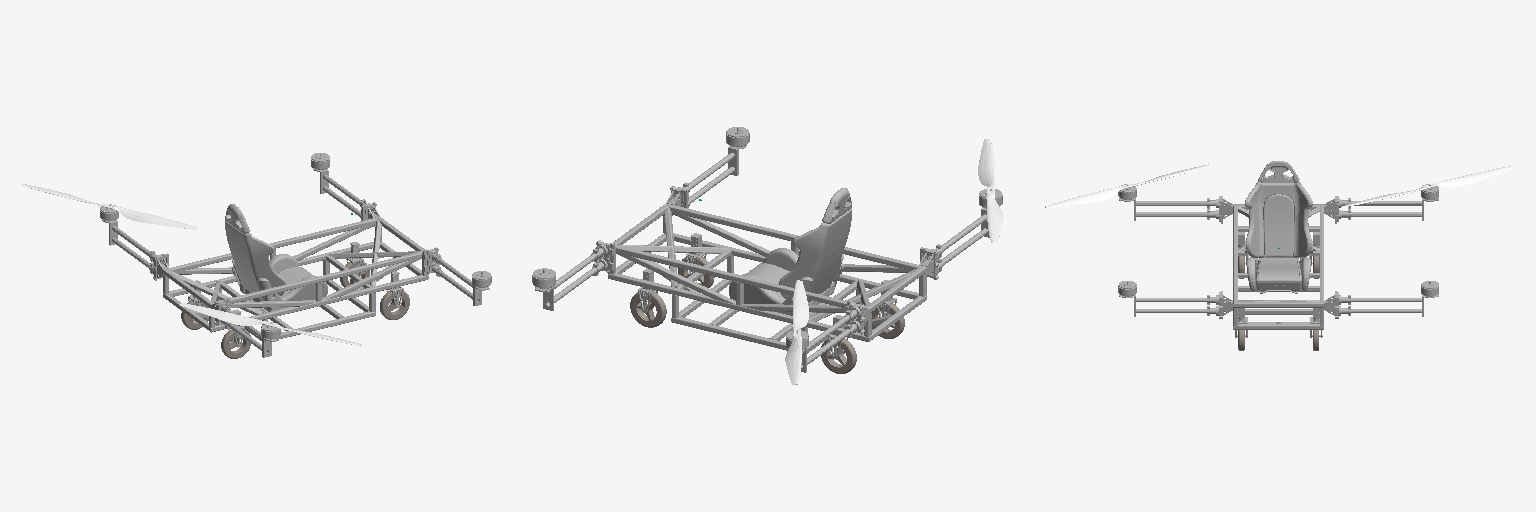
--- Facts derived from the render (not from the file) ---
Views: 3 orthographic renders of the robot side by side, from view 1: azimuth 30°, elevation 25°; view 2: azimuth 150°, elevation 25°; view 3: azimuth 270°, elevation 25°.
Model iris with 20 links and 19 joints (8 revolute, 8 continuous, 3 fixed), rooted at base_link, posed every joint at zero.
Visible links, largest first — view 1: base_link, FR_arm_link, RL_arm_link, FL_arm_link, RR_prop_link, RR_arm_link, RL_prop_link, FR_wheel_link; view 2: base_link, FL_arm_link, FR_arm_link, RL_arm_link, RL_prop_link, RR_prop_link, RR_arm_link, FL_wheel_link, RL_wheel_link; view 3: base_link, RR_arm_link, RL_arm_link, FR_arm_link, FL_arm_link, RL_prop_link, RR_prop_link.
Boxes of the visible links, bbox=[...] form: base_link: bbox=[154, 203, 435, 345]; FR_arm_link: bbox=[423, 248, 491, 305]; RL_arm_link: bbox=[100, 204, 168, 278]; FL_arm_link: bbox=[311, 153, 374, 220]; RR_prop_link: bbox=[180, 303, 361, 345]; RR_arm_link: bbox=[216, 300, 280, 357]; RL_prop_link: bbox=[21, 184, 197, 229]; FR_wheel_link: bbox=[380, 290, 409, 319]; base_link: bbox=[599, 187, 937, 358]; FL_arm_link: bbox=[532, 241, 614, 310]; FR_arm_link: bbox=[672, 127, 749, 208]; RL_arm_link: bbox=[786, 303, 862, 372]; RL_prop_link: bbox=[785, 280, 808, 384]; RR_prop_link: bbox=[978, 139, 1003, 242]; RR_arm_link: bbox=[920, 189, 1002, 277]; FL_wheel_link: bbox=[630, 292, 666, 327]; RL_wheel_link: bbox=[821, 338, 856, 373]; base_link: bbox=[1221, 161, 1336, 336]; RR_arm_link: bbox=[1118, 184, 1222, 221]; RL_arm_link: bbox=[1335, 184, 1438, 221]; FR_arm_link: bbox=[1118, 281, 1220, 318]; FL_arm_link: bbox=[1337, 281, 1438, 318]; RL_prop_link: bbox=[1345, 166, 1514, 206]; RR_prop_link: bbox=[1045, 164, 1210, 208].
Size in the robot's own frame: 2.39 by 3.88 by 1.14 metres.
Meshes: 19 distinct files referenced, 15 mesh visuals loaded (15 binary STL); not drawn: 4 (reference not matched to a file when rendering).

The robot description file, URDF, robot "iris":
<?xml version="1.0" encoding="utf-8"?>
<!-- =================================================================================== -->
<!-- |    This document was autogenerated by xacro from flying_car.urdf.xacro          | -->
<!-- |    EDITING THIS FILE BY HAND IS NOT RECOMMENDED                                 | -->
<!-- =================================================================================== -->
<!-- This URDF was automatically created by SolidWorks to URDF Exporter! Originally created by Stephen Brawner ([email redacted]) 
     Commit Version: 1.6.0-1-g15f4949  Build Version: 1.6.7594.29634
     For more information, please see http://wiki.ros.org/sw_urdf_exporter -->
<!--robot name="flying_car_urdf" xmlns:xacro="http://ros.org/wiki/xacro"-->
<robot name="iris">
  <gazebo>
    <plugin filename="libgazebo_ros_control.so" name="gazebo_ros_control">
      <!--robotNamespace>/MYROBOT</robotNamespace-->
      <robotSimType>gazebo_ros_control/DefaultRobotHWSim</robotSimType>
    </plugin>
  </gazebo>
  <transmission name="tran1">
    <type>transmission_interface/SimpleTransmission</type>
    <joint name="FL_steer_joint">
      <hardwareInterface>hardware_interface/EffortJointInterface</hardwareInterface>
    </joint>
    <actuator name="motor1">
      <mechanicalReduction>1</mechanicalReduction>
    </actuator>
  </transmission>
  <transmission name="tran2">
    <type>transmission_interface/SimpleTransmission</type>
    <joint name="FR_steer_joint">
      <hardwareInterface>hardware_interface/EffortJointInterface</hardwareInterface>
    </joint>
    <actuator name="motor2">
      <mechanicalReduction>1</mechanicalReduction>
    </actuator>
  </transmission>
  <transmission name="tran3">
    <type>transmission_interface/SimpleTransmission</type>
    <joint name="FL_arm_joint">
      <hardwareInterface>hardware_interface/EffortJointInterface</hardwareInterface>
    </joint>
    <actuator name="motor3">
      <mechanicalReduction>1</mechanicalReduction>
    </actuator>
  </transmission>
  <transmission name="tran4">
    <type>transmission_interface/SimpleTransmission</type>
    <joint name="FR_arm_joint">
      <hardwareInterface>hardware_interface/EffortJointInterface</hardwareInterface>
    </joint>
    <actuator name="motor4">
      <mechanicalReduction>1</mechanicalReduction>
    </actuator>
  </transmission>
  <transmission name="tran5">
    <type>transmission_interface/SimpleTransmission</type>
    <joint name="RL_arm_joint">
      <hardwareInterface>hardware_interface/EffortJointInterface</hardwareInterface>
    </joint>
    <actuator name="motor5">
      <mechanicalReduction>1</mechanicalReduction>
    </actuator>
  </transmission>
  <transmission name="tran6">
    <type>transmission_interface/SimpleTransmission</type>
    <joint name="RR_arm_joint">
      <hardwareInterface>hardware_interface/EffortJointInterface</hardwareInterface>
    </joint>
    <actuator name="motor6">
      <mechanicalReduction>1</mechanicalReduction>
    </actuator>
  </transmission>
  <transmission name="tranFL_prop">
    <type>transmission_interface/SimpleTransmission</type>
    <joint name="FL_prop_joint">
      <hardwareInterface>hardware_interface/EffortJointInterface</hardwareInterface>
    </joint>
    <actuator name="motorFL_prop">
      <mechanicalReduction>1</mechanicalReduction>
    </actuator>
  </transmission>
  <transmission name="tranFR_prop">
    <type>transmission_interface/SimpleTransmission</type>
    <joint name="FR_prop_joint">
      <hardwareInterface>hardware_interface/EffortJointInterface</hardwareInterface>
    </joint>
    <actuator name="motorFR_prop">
      <mechanicalReduction>1</mechanicalReduction>
    </actuator>
  </transmission>
  <transmission name="tranRL_prop">
    <type>transmission_interface/SimpleTransmission</type>
    <joint name="RL_prop_joint">
      <hardwareInterface>hardware_interface/EffortJointInterface</hardwareInterface>
    </joint>
    <actuator name="motorRL_prop">
      <mechanicalReduction>1</mechanicalReduction>
    </actuator>
  </transmission>
  <transmission name="tranRR_prop">
    <type>transmission_interface/SimpleTransmission</type>
    <joint name="RR_prop_joint">
      <hardwareInterface>hardware_interface/EffortJointInterface</hardwareInterface>
    </joint>
    <actuator name="motorRR_prop">
      <mechanicalReduction>1</mechanicalReduction>
    </actuator>
  </transmission>
  <transmission name="tranFL_wheel">
    <type>transmission_interface/SimpleTransmission</type>
    <joint name="FL_wheel_joint">
      <hardwareInterface>hardware_interface/EffortJointInterface</hardwareInterface>
    </joint>
    <actuator name="FL_wheel">
      <mechanicalReduction>1</mechanicalReduction>
    </actuator>
  </transmission>
  <transmission name="tranFR_wheel">
    <type>transmission_interface/SimpleTransmission</type>
    <joint name="FR_wheel_joint">
      <hardwareInterface>hardware_interface/EffortJointInterface</hardwareInterface>
    </joint>
    <actuator name="FR_wheel">
      <mechanicalReduction>1</mechanicalReduction>
    </actuator>
  </transmission>
  <transmission name="tranRL_wheel">
    <type>transmission_interface/SimpleTransmission</type>
    <joint name="RL_wheel_joint">
      <hardwareInterface>hardware_interface/EffortJointInterface</hardwareInterface>
    </joint>
    <actuator name="RL_wheel">
      <mechanicalReduction>1</mechanicalReduction>
    </actuator>
  </transmission>
  <transmission name="tranRR_wheel">
    <type>transmission_interface/SimpleTransmission</type>
    <joint name="RR_wheel_joint">
      <hardwareInterface>hardware_interface/EffortJointInterface</hardwareInterface>
    </joint>
    <actuator name="RR_wheel">
      <mechanicalReduction>1</mechanicalReduction>
    </actuator>
  </transmission>
  <joint name="velodyne2_base_mount_joint" type="fixed">
    <origin rpy="0 0 0" xyz="0.5 0 0.5"/>
    <parent link="base_link"/>
    <child link="velodyne2_base_link"/>
  </joint>
  <link name="velodyne2_base_link">
    <inertial>
      <mass value="1.0"/>
      <origin xyz="0 0 0.07212"/>
      <inertia ixx="0.002188947025" ixy="0" ixz="0" iyy="0.002188947025" iyz="0" izz="0.00091036445"/>
    </inertial>
    <visual>
      <geometry>
        <mesh filename="package://velodyne_description/meshes/HDL32E_base.dae"/>
      </geometry>
    </visual>
    <collision>
      <origin rpy="0 0 0" xyz="0 0 0.07212"/>
      <geometry>
        <cylinder length="0.14424" radius="0.04267"/>
      </geometry>
    </collision>
  </link>
  <joint name="velodyne2_base_scan_joint" type="fixed">
    <origin rpy="0 0 0" xyz="0 0 0.09081"/>
    <parent link="velodyne2_base_link"/>
    <child link="velodyne2"/>
  </joint>
  <link name="velodyne2">
    <inertial>
      <mass value="0.01"/>
      <origin xyz="0 0 0"/>
      <inertia ixx="1e-7" ixy="0" ixz="0" iyy="1e-7" iyz="0" izz="1e-7"/>
    </inertial>
    <visual>
      <origin rpy="0 0 0" xyz="0 0 -0.09081"/>
      <geometry>
        <mesh filename="package://velodyne_description/meshes/HDL32E_scan.dae"/>
      </geometry>
    </visual>
  </link>
  <!-- Gazebo requires the velodyne_gazebo_plugins package -->
  <gazebo reference="velodyne2">
    <sensor name="velodyne2-HDL32E" type="ray">
      <pose>0 0 0 0 0 0</pose>
      <visualize>false</visualize>
      <update_rate>10</update_rate>
      <ray>
        <scan>
          <horizontal>
            <samples>220</samples>
            <resolution>1</resolution>
            <min_angle>-3.14159265359</min_angle>
            <max_angle>3.14159265359</max_angle>
          </horizontal>
          <vertical>
            <samples>32</samples>
            <resolution>1</resolution>
            <min_angle>-0.535292481587</min_angle>
            <max_angle> 0.186226631188</max_angle>
          </vertical>
        </scan>
        <range>
          <min>0.3</min>
          <max>131.0</max>
          <resolution>0.001</resolution>
        </range>
        <noise>
          <type>gaussian</type>
          <mean>0.0</mean>
          <stddev>0.0</stddev>
        </noise>
      </ray>
      <plugin filename="libgazebo_ros_velodyne_laser.so" name="gazebo_ros_laser_controller">
        <topicName>/velodyne_points2</topicName>
        <frameName>velodyne2</frameName>
        <min_range>0.9</min_range>
        <max_range>130.0</max_range>
        <gaussianNoise>0.008</gaussianNoise>
      </plugin>
    </sensor>
  </gazebo>
  <plugin filename="libgazebo_motor_model.so" name="front_right_motor_model">
    <robotNamespace/>
    <jointName>FR_prop_joint</jointName>
    <linkName>FR_prop_link</linkName>
    <turningDirection>ccw</turningDirection>
    <timeConstantUp>0.0125</timeConstantUp>
    <timeConstantDown>0.025</timeConstantDown>
    <maxRotVelocity>1100</maxRotVelocity>
    <motorConstant>5.84e-06</motorConstant>
    <momentConstant>0.06</momentConstant>
    <commandSubTopic>/gazebo/command/motor_speed</commandSubTopic>
    <motorNumber>0</motorNumber>
    <rotorDragCoefficient>0.000175</rotorDragCoefficient>
    <rollingMomentCoefficient>1e-06</rollingMomentCoefficient>
    <motorSpeedPubTopic>/motor_speed/0</motorSpeedPubTopic>
    <rotorVelocitySlowdownSim>10</rotorVelocitySlowdownSim>
  </plugin>
  <plugin filename="libgazebo_motor_model.so" name="back_left_motor_model">
    <robotNamespace/>
    <jointName>RL_prop_joint</jointName>
    <linkName>RL_prop_link</linkName>
    <turningDirection>ccw</turningDirection>
    <timeConstantUp>0.0125</timeConstantUp>
    <timeConstantDown>0.025</timeConstantDown>
    <maxRotVelocity>1100</maxRotVelocity>
    <motorConstant>5.84e-06</motorConstant>
    <momentConstant>0.06</momentConstant>
    <commandSubTopic>/gazebo/command/motor_speed</commandSubTopic>
    <motorNumber>1</motorNumber>
    <rotorDragCoefficient>0.000175</rotorDragCoefficient>
    <rollingMomentCoefficient>1e-06</rollingMomentCoefficient>
    <motorSpeedPubTopic>/motor_speed/1</motorSpeedPubTopic>
    <rotorVelocitySlowdownSim>10</rotorVelocitySlowdownSim>
  </plugin>
  <plugin filename="libgazebo_motor_model.so" name="front_left_motor_model">
    <robotNamespace/>
    <jointName>FR_prop_joint</jointName>
    <linkName>FR_prop_link</linkName>
    <turningDirection>cw</turningDirection>
    <timeConstantUp>0.0125</timeConstantUp>
    <timeConstantDown>0.025</timeConstantDown>
    <maxRotVelocity>1100</maxRotVelocity>
    <motorConstant>5.84e-06</motorConstant>
    <momentConstant>0.06</momentConstant>
    <commandSubTopic>/gazebo/command/motor_speed</commandSubTopic>
    <motorNumber>2</motorNumber>
    <rotorDragCoefficient>0.000175</rotorDragCoefficient>
    <rollingMomentCoefficient>1e-06</rollingMomentCoefficient>
    <motorSpeedPubTopic>/motor_speed/2</motorSpeedPubTopic>
    <rotorVelocitySlowdownSim>10</rotorVelocitySlowdownSim>
  </plugin>
  <plugin filename="libgazebo_motor_model.so" name="back_right_motor_model">
    <robotNamespace/>
    <jointName>RR_prop_joint</jointName>
    <linkName>RR_prop_link</linkName>
    <jointName>rotor_3_joint</jointName>
    <linkName>rotor_3</linkName>
    <turningDirection>cw</turningDirection>
    <timeConstantUp>0.0125</timeConstantUp>
    <timeConstantDown>0.025</timeConstantDown>
    <maxRotVelocity>1100</maxRotVelocity>
    <motorConstant>5.84e-06</motorConstant>
    <momentConstant>0.06</momentConstant>
    <commandSubTopic>/gazebo/command/motor_speed</commandSubTopic>
    <motorNumber>3</motorNumber>
    <rotorDragCoefficient>0.000175</rotorDragCoefficient>
    <rollingMomentCoefficient>1e-06</rollingMomentCoefficient>
    <motorSpeedPubTopic>/motor_speed/3</motorSpeedPubTopic>
    <rotorVelocitySlowdownSim>10</rotorVelocitySlowdownSim>
  </plugin>
  <link name="gps0_link">
    <inertial>
      <origin rpy="0 0 0" xyz="0 0 0"/>
      <mass value="0.01"/>
      <inertia ixx="2.1733e-06" ixy="0" ixz="0" iyy="2.1733e-06" iyz="0" izz="1.8e-07"/>
    </inertial>
    <visual name="visual">
      <geometry>
        <cylinder length="0.002" radius="0.01"/>
      </geometry>
    </visual>
    <sensor name="gps" type="gps">
      <pose>0 0 0 0 0 0</pose>
      <plugin filename="libgazebo_gps_plugin.so" name="gps_plugin">
        <robotNamespace/>
        <gpsNoise>1</gpsNoise>
        <gpsXYRandomWalk>2.0</gpsXYRandomWalk>
        <gpsZRandomWalk>4.0</gpsZRandomWalk>
        <gpsXYNoiseDensity>0.0002</gpsXYNoiseDensity>
        <gpsZNoiseDensity>0.0004</gpsZNoiseDensity>
        <gpsVXYNoiseDensity>0.2</gpsVXYNoiseDensity>
        <gpsVZNoiseDensity>0.4</gpsVZNoiseDensity>
      </plugin>
    </sensor>
  </link>
  <joint name="gps0_joint" type="fixed">
    <parent link="base_link"/>
    <child link="gps0_link"/>
    <origin rpy="0 0 0" xyz="0.5 0 0.7"/>
    <axis xyz="0 0 0"/>
  </joint>
  <plugin filename="libgazebo_groundtruth_plugin.so" name="groundtruth_plugin">
    <robotNamespace/>
  </plugin>
  <plugin filename="libgazebo_magnetometer_plugin.so" name="magnetometer_plugin">
    <robotNamespace/>
    <pubRate>100</pubRate>
    <noiseDensity>0.0004</noiseDensity>
    <randomWalk>6.4e-06</randomWalk>
    <biasCorrelationTime>600</biasCorrelationTime>
    <magTopic>/mag</magTopic>
  </plugin>
  <plugin filename="libgazebo_barometer_plugin.so" name="barometer_plugin">
    <robotNamespace/>
    <pubRate>50</pubRate>
    <baroTopic>/baro</baroTopic>
    <baroDriftPaPerSec>0</baroDriftPaPerSec>
  </plugin>
  <plugin filename="libgazebo_mavlink_interface.so" name="mavlink_interface">
    <robotNamespace/>
    <imuSubTopic>/imu</imuSubTopic>
    <magSubTopic>/mag</magSubTopic>
    <baroSubTopic>/baro</baroSubTopic>
    <mavlink_addr>INADDR_ANY</mavlink_addr>
    <mavlink_tcp_port>4560</mavlink_tcp_port>
    <mavlink_udp_port>14560</mavlink_udp_port>
    <serialEnabled>0</serialEnabled>
    <serialDevice>/dev/ttyACM0</serialDevice>
    <baudRate>921600</baudRate>
    <qgc_addr>INADDR_ANY</qgc_addr>
    <qgc_udp_port>14550</qgc_udp_port>
    <sdk_addr>INADDR_ANY</sdk_addr>
    <sdk_udp_port>14540</sdk_udp_port>
    <hil_mode>0</hil_mode>
    <hil_state_level>0</hil_state_level>
    <send_vision_estimation>0</send_vision_estimation>
    <send_odometry>1</send_odometry>
    <enable_lockstep>1</enable_lockstep>
    <use_tcp>1</use_tcp>
    <motorSpeedCommandPubTopic>/gazebo/command/motor_speed</motorSpeedCommandPubTopic>
    <control_channels>
      <channel name="rotor1">
        <input_index>0</input_index>
        <input_offset>0</input_offset>
        <input_scaling>1000</input_scaling>
        <zero_position_disarmed>0</zero_position_disarmed>
        <zero_position_armed>100</zero_position_armed>
        <joint_control_type>velocity</joint_control_type>
      </channel>
      <channel name="rotor2">
        <input_index>1</input_index>
        <input_offset>0</input_offset>
        <input_scaling>1000</input_scaling>
        <zero_position_disarmed>0</zero_position_disarmed>
        <zero_position_armed>100</zero_position_armed>
        <joint_control_type>velocity</joint_control_type>
      </channel>
      <channel name="rotor3">
        <input_index>2</input_index>
        <input_offset>0</input_offset>
        <input_scaling>1000</input_scaling>
        <zero_position_disarmed>0</zero_position_disarmed>
        <zero_position_armed>100</zero_position_armed>
        <joint_control_type>velocity</joint_control_type>
      </channel>
      <channel name="rotor4">
        <input_index>3</input_index>
        <input_offset>0</input_offset>
        <input_scaling>1000</input_scaling>
        <zero_position_disarmed>0</zero_position_disarmed>
        <zero_position_armed>100</zero_position_armed>
        <joint_control_type>velocity</joint_control_type>
      </channel>
      <channel name="rotor5">
        <input_index>4</input_index>
        <input_offset>1</input_offset>
        <input_scaling>324.6</input_scaling>
        <zero_position_disarmed>0</zero_position_disarmed>
        <zero_position_armed>0</zero_position_armed>
        <joint_control_type>velocity</joint_control_type>
        <joint_control_pid>
          <p>0.1</p>
          <i>0</i>
          <d>0</d>
          <iMax>0.0</iMax>
          <iMin>0.0</iMin>
          <cmdMax>2</cmdMax>
          <cmdMin>-2</cmdMin>
        </joint_control_pid>
        <joint_name>zephyr_delta_wing::propeller_joint</joint_name>
      </channel>
      <channel name="rotor6">
        <input_index>5</input_index>
        <input_offset>0</input_offset>
        <input_scaling>0.524</input_scaling>
        <zero_position_disarmed>0</zero_position_disarmed>
        <zero_position_armed>0</zero_position_armed>
        <joint_control_type>position</joint_control_type>
        <joint_name>zephyr_delta_wing::flap_left_joint</joint_name>
        <joint_control_pid>
          <p>10.0</p>
          <i>0</i>
          <d>0</d>
          <iMax>0</iMax>
          <iMin>0</iMin>
          <cmdMax>20</cmdMax>
          <cmdMin>-20</cmdMin>
        </joint_control_pid>
      </channel>
      <channel name="rotor7">
        <input_index>6</input_index>
        <input_offset>0</input_offset>
        <input_scaling>0.524</input_scaling>
        <zero_position_disarmed>0</zero_position_disarmed>
        <zero_position_armed>0</zero_position_armed>
        <joint_control_type>position</joint_control_type>
        <joint_name>zephyr_delta_wing::flap_right_joint</joint_name>
        <joint_control_pid>
          <p>10.0</p>
          <i>0</i>
          <d>0</d>
          <iMax>0</iMax>
          <iMin>0</iMin>
          <cmdMax>20</cmdMax>
          <cmdMin>-20</cmdMin>
        </joint_control_pid>
      </channel>
      <channel name="rotor8">
        <input_index>7</input_index>
        <input_offset>0</input_offset>
        <input_scaling>0.524</input_scaling>
        <zero_position_disarmed>0</zero_position_disarmed>
        <zero_position_armed>0</zero_position_armed>
        <joint_control_type>position</joint_control_type>
      </channel>
    </control_channels>
  </plugin>
  <static>0</static>
  <plugin filename="libgazebo_imu_plugin.so" name="rotors_gazebo_imu_plugin">
    <robotNamespace/>
    <linkName>/imu_link</linkName>
    <imuTopic>/imu</imuTopic>
    <gyroscopeNoiseDensity>0.00018665</gyroscopeNoiseDensity>
    <gyroscopeRandomWalk>3.8785e-05</gyroscopeRandomWalk>
    <gyroscopeBiasCorrelationTime>1000.0</gyroscopeBiasCorrelationTime>
    <gyroscopeTurnOnBiasSigma>0.0087</gyroscopeTurnOnBiasSigma>
    <accelerometerNoiseDensity>0.00186</accelerometerNoiseDensity>
    <accelerometerRandomWalk>0.006</accelerometerRandomWalk>
    <accelerometerBiasCorrelationTime>300.0</accelerometerBiasCorrelationTime>
    <accelerometerTurnOnBiasSigma>0.196</accelerometerTurnOnBiasSigma>
  </plugin>
  <link name="base_link">
    <inertial>
      <origin rpy="0 0 0" xyz="-0.146429923355639 4.6141216103468E-06 0.306922339438389"/>
      <mass value="72.4585171289715"/>
      <inertia ixx="1.61550819650369" ixy="-3.16188395392895E-05" ixz="0.0620334640597006" iyy="2.74355272384867" iyz="-0.00648256065496445" izz="3.23450546919946"/>
    </inertial>
    <visual>
      <origin rpy="0 0 0" xyz="0 0 0"/>
      <geometry>
        <mesh filename="package://flying_car_urdf/meshes/base_link.STL"/>
      </geometry>
      <material name="">
        <color rgba="0.752941176470588 0.752941176470588 0.752941176470588 1"/>
      </material>
    </visual>
    <collision>
      <origin rpy="0 0 0" xyz="0 0 0"/>
      <geometry>
        <mesh filename="package://flying_car_urdf/meshes/base_link.STL"/>
      </geometry>
    </collision>
  </link>
  <link name="FL_arm_link">
    <inertial>
      <origin rpy="0 0 0" xyz="0.405693257704713 0.0031481565089142 0.107253489414463"/>
      <mass value="3.89447230721183"/>
      <inertia ixx="0.00764950499387066" ixy="7.20024305750638E-05" ixz="-2.12112386887157E-07" iyy="0.0330920443295484" iyz="-1.37630637299853E-08" izz="0.0321291032185021"/>
    </inertial>
    <visual>
      <origin rpy="0 0 0" xyz="0 0 0"/>
      <geometry>
        <mesh filename="package://flying_car_urdf/meshes/FL_arm_link.STL"/>
      </geometry>
      <material name="">
        <color rgba="0.752941176470588 0.752941176470588 0.752941176470588 1"/>
      </material>
    </visual>
    <collision>
      <origin rpy="0 0 0" xyz="0 0 0"/>
      <geometry>
        <mesh filename="package://flying_car_urdf/meshes/FL_arm_link.STL"/>
      </geometry>
    </collision>
  </link>
  <joint name="FL_arm_joint" type="revolute">
    <origin rpy="0 0 1.5707963267949" xyz="0.940000000000001 0.48 0.339999999999999"/>
    <parent link="base_link"/>
    <child link="FL_arm_link"/>
    <axis xyz="0 0 -1"/>
    <limit effort="100" lower="-1.57" upper="0" velocity="1"/>
  </joint>
  <link name="FL_prop_link">
    <inertial>
      <origin rpy="0 0 0" xyz="7.9164959032596E-09 -0.00186087352819841 -1.45022256425875E-08"/>
      <mass value="1.00633319200359"/>
      <inertia ixx="0.0495943276929438" ixy="5.12014239400693E-11" ixz="0.0777130986532108" iyy="0.173195440429717" iyz="1.30510821163399E-10" izz="0.123701063238782"/>
    </inertial>
    <visual>
      <origin rpy="0 0 0" xyz="0 0 0"/>
      <geometry>
        <mesh filename="package://flying_car_urdf/meshes/FL_prop_link.STL"/>
      </geometry>
      <material name="">
        <color rgba="1 1 1 1"/>
      </material>
    </visual>
    <collision>
      <origin rpy="0 0 0" xyz="0 0 0"/>
      <geometry>
        <mesh filename="package://flying_car_urdf/meshes/FL_prop_link.STL"/>
      </geometry>
    </collision>
  </link>
  <joint name="FL_prop_joint" type="continuous">
    <origin rpy="1.5708 0 0" xyz="0.76505 0 0.254"/>
    <parent link="FL_arm_link"/>
    <child link="FL_prop_link"/>
    <axis xyz="0 1 0"/>
  </joint>
  <link name="FR_arm_link">
    <inertial>
      <origin rpy="0 0 0" xyz="0.405693257704711 -0.00725348941446158 -0.00314828941180689"/>
      <mass value="3.89447230721182"/>
      <inertia ixx="0.00764950499387065" ixy="2.12112386890709E-07" ixz="-7.20021868805378E-05" iyy="0.0321291032185021" iyz="1.37630637386484E-08" izz="0.0330920443295484"/>
    </inertial>
    <visual>
      <origin rpy="0 0 0" xyz="0 0 0"/>
      <geometry>
        <mesh filename="package://flying_car_urdf/meshes/FR_arm_link.STL"/>
      </geometry>
      <material name="">
        <color rgba="0.752941176470588 0.752941176470588 0.752941176470588 1"/>
      </material>
    </visual>
    <collision>
      <origin rpy="0 0 0" xyz="0 0 0"/>
      <geometry>
        <mesh filename="package://flying_car_urdf/meshes/FR_arm_link.STL"/>
      </geometry>
    </collision>
  </link>
  <joint name="FR_arm_joint" type="revolute">
    <origin rpy="-1.5708 0 -1.5708" xyz="0.94 -0.48 0.44"/>
    <parent link="base_link"/>
    <child link="FR_arm_link"/>
    <axis xyz="0 -1 0"/>
    <limit effort="100" lower="-1.57" upper="0" velocity="1"/>
  </joint>
  <link name="FR_prop_link">
    <inertial>
      <origin rpy="0 0 0" xyz="-1.95864401566527E-07 -0.00186086168514299 1.01704304089623E-07"/>
      <mass value="1.00636259561687"/>
      <inertia ixx="0.0395701881672427" ixy="4.88903964209589E-10" ixz="0.0720874245458485" iyy="0.173211048789436" iyz="-1.15461644657509E-10" izz="0.133740813319805"/>
    </inertial>
    <visual>
      <origin rpy="0 0 0" xyz="0 0 0"/>
      <geometry>
        <mesh filename="package://flying_car_urdf/meshes/FR_prop_link.STL"/>
      </geometry>
      <material name="">
        <color rgba="1 1 1 1"/>
      </material>
    </visual>
    <collision>
      <origin rpy="0 0 0" xyz="0 0 0"/>
      <geometry>
        <mesh filename="package://flying_car_urdf/meshes/FR_prop_link.STL"/>
      </geometry>
    </collision>
  </link>
  <joint name="FR_prop_joint" type="continuous">
    <origin rpy="0 0 3.14159265358979" xyz="0.765051653365603 -0.154000000000011 0"/>
    <parent link="FR_arm_link"/>
    <child link="FR_prop_link"/>
    <axis xyz="0 1 0"/>
  </joint>
  <link name="RR_arm_link">
    <inertial>
      <origin rpy="0 0 0" xyz="0.405693257704711 0.00314815650891492 0.107253489414463"/>
      <mass value="3.89447230721182"/>
      <inertia ixx="0.00764950499387065" ixy="7.20024305750679E-05" ixz="-2.1211238688973E-07" iyy="0.0330920443295484" iyz="-1.37630637350729E-08" izz="0.0321291032185021"/>
    </inertial>
    <visual>
      <origin rpy="0 0 0" xyz="0 0 0"/>
      <geometry>
        <mesh filename="package://flying_car_urdf/meshes/RR_arm_link.STL"/>
      </geometry>
      <material name="">
        <color rgba="0.752941176470588 0.752941176470588 0.752941176470588 1"/>
      </material>
    </visual>
    <collision>
      <origin rpy="0 0 0" xyz="0 0 0"/>
      <geometry>
        <mesh filename="package://flying_car_urdf/meshes/RR_arm_link.STL"/>
      </geometry>
    </collision>
  </link>
  <joint name="RR_arm_joint" type="revolute">
    <origin rpy="0 0 -1.5708" xyz="-0.94 -0.48 0.34"/>
    <parent link="base_link"/>
    <child link="RR_arm_link"/>
    <axis xyz="0 0 -1"/>
    <limit effort="100" lower="-1.57" upper="0" velocity="1"/>
  </joint>
  <link name="RR_prop_link">
    <inertial>
      <origin rpy="0 0 0" xyz="2.17005934749492E-09 -0.00186087212280439 -8.24081997086168E-09"/>
      <mass value="1.00633311458426"/>
      <inertia ixx="0.0495943271195099" ixy="-5.63368805909919E-11" ixz="0.0777130981431345" iyy="0.173195439404083" iyz="2.46588541774348E-10" izz="0.123701062736267"/>
    </inertial>
    <visual>
      <origin rpy="0 0 0" xyz="0 0 0"/>
      <geometry>
        <mesh filename="package://flying_car_urdf/meshes/RR_prop_link.STL"/>
      </geometry>
      <material name="">
        <color rgba="1 1 1 1"/>
      </material>
    </visual>
    <collision>
      <origin rpy="0 0 0" xyz="0 0 0"/>
      <geometry>
        <mesh filename="package://flying_car_urdf/meshes/RR_prop_link.STL"/>
      </geometry>
    </collision>
  </link>
  <joint name="RR_prop_joint" type="continuous">
    <origin rpy="1.5707963267949 0 3.14159265358979" xyz="0.765051653365595 0 0.254000000000003"/>
    <parent link="RR_arm_link"/>
    <child link="RR_prop_link"/>
    <axis xyz="0 1 0"/>
  </joint>
  <link name="RL_arm_link">
    <inertial>
      <origin rpy="0 0 0" xyz="0.40569325770471 0.00725348941446136 0.00314828941180623"/>
      <mass value="3.89447230721181"/>
      <inertia ixx="0.00764950499387061" ixy="-2.12112386866559E-07" ixz="7.20021868805221E-05" iyy="0.032129103218502" iyz="1.37630637374215E-08" izz="0.0330920443295484"/>
    </inertial>
    <visual>
      <origin rpy="0 0 0" xyz="0 0 0"/>
      <geometry>
        <mesh filename="package://flying_car_urdf/meshes/RL_arm_link.STL"/>
      </geometry>
      <material name="">
        <color rgba="0.752941176470588 0.752941176470588 0.752941176470588 1"/>
      </material>
    </visual>
    <collision>
      <origin rpy="0 0 0" xyz="0 0 0"/>
      <geometry>
        <mesh filename="package://flying_car_urdf/meshes/RL_arm_link.STL"/>
      </geometry>
    </collision>
  </link>
  <joint name="RL_arm_joint" type="revolute">
    <origin rpy="1.5708 0 1.5708" xyz="-0.94 0.48 0.44"/>
    <parent link="base_link"/>
    <child link="RL_arm_link"/>
    <axis xyz="0 1 0"/>
    <limit effort="100" lower="-1.57" upper="0" velocity="1"/>
  </joint>
  <link name="RL_prop_link">
    <inertial>
      <origin rpy="0 0 0" xyz="-1.90695036650368E-07 -0.00186086500205929 9.97787533985051E-08"/>
      <mass value="1.00636280361878"/>
      <inertia ixx="0.0395701883931864" ixy="5.37299574939007E-10" ixz="0.0720874251910353" iyy="0.173211051383078" iyz="-1.36539842148325E-10" izz="0.133740815794897"/>
    </inertial>
    <visual>
      <origin rpy="0 0 0" xyz="0 0 0"/>
      <geometry>
        <mesh filename="package://flying_car_urdf/meshes/RL_prop_link.STL"/>
      </geometry>
      <material name="">
        <color rgba="1 1 1 1"/>
      </material>
    </visual>
    <collision>
      <origin rpy="0 0 0" xyz="0 0 0"/>
      <geometry>
        <mesh filename="package://flying_car_urdf/meshes/RL_prop_link.STL"/>
      </geometry>
    </collision>
  </link>
  <joint name="RL_prop_joint" type="continuous">
    <origin rpy="0 0 0" xyz="0.765051653365595 0.154000000000009 0"/>
    <parent link="RL_arm_link"/>
    <child link="RL_prop_link"/>
    <axis xyz="0 1 0"/>
  </joint>
  <link name="FR_steer_link">
    <inertial>
      <origin rpy="0 0 0" xyz="-2.22044604925031E-16 1.11022302462516E-16 -0.0452127836143312"/>
      <mass value="0.230273438117984"/>
      <inertia ixx="0.000349256798258404" ixy="1.45518192075896E-14" ixz="-7.92477996108057E-19" iyy="0.000450897154400186" iyz="1.54271030766644E-20" izz="0.000182392582849012"/>
    </inertial>
    <visual>
      <origin rpy="0 0 0" xyz="0 0 0"/>
      <geometry>
        <mesh filename="package://flying_car_urdf/meshes/FR_steer_link.STL"/>
      </geometry>
      <material name="">
        <color rgba="0.752941176470588 0.752941176470588 0.752941176470588 1"/>
      </material>
    </visual>
    <collision>
      <origin rpy="0 0 0" xyz="0 0 0"/>
      <geometry>
        <mesh filename="package://flying_car_urdf/meshes/FR_steer_link.STL"/>
      </geometry>
    </collision>
  </link>
  <joint name="FR_steer_joint" type="revolute">
    <origin rpy="0 0 0" xyz="0.707 -0.308 0.15"/>
    <parent link="base_link"/>
    <child link="FR_steer_link"/>
    <axis xyz="0 0 1"/>
    <limit effort="1" lower="-1.57" upper="1.57" velocity="1"/>
  </joint>
  <link name="FR_wheel_link">
    <inertial>
      <origin rpy="0 0 0" xyz="-1.11022302462516E-16 -1.11022302462516E-16 0"/>
      <mass value="1.84219192629543"/>
      <inertia ixx="0.0177302468286368" ixy="-4.28723099915728E-19" ixz="2.20679460797186E-18" iyy="0.00925790244280525" iyz="-3.12343399300023E-18" izz="0.00925790244280525"/>
    </inertial>
    <visual>
      <origin rpy="0 0 0" xyz="0 0 0"/>
      <geometry>
        <mesh filename="package://flying_car_urdf/meshes/FR_wheel_link.STL"/>
      </geometry>
      <material name="">
        <color rgba="0.647058823529412 0.619607843137255 0.588235294117647 1"/>
      </material>
    </visual>
    <collision>
      <origin rpy="0 0 0" xyz="0 0 0"/>
      <geometry>
        <mesh filename="package://flying_car_urdf/meshes/FR_wheel_link.STL"/>
      </geometry>
      <friction>
        <ode>
          <mu>0.68</mu>
          <mu2>0.8</mu2>
        </ode>
      </friction>
    </collision>
  </link>
  <joint name="FR_wheel_joint" type="continuous">
    <origin rpy="1.5707963267949 0 1.5707963267949" xyz="0 0 -0.145000000000282"/>
    <parent link="FR_steer_link"/>
    <child link="FR_wheel_link"/>
    <axis xyz="1 0 0"/>
  </joint>
  <link name="FL_steer_link">
    <inertial>
      <origin rpy="0 0 0" xyz="0 2.22044604925031E-16 -0.0452127836143308"/>
      <mass value="0.230273438117982"/>
      <inertia ixx="0.000349256798258392" ixy="1.45517583247674E-14" ixz="1.39565796343945E-19" iyy="0.000450897154400175" iyz="2.4253803330348E-20" izz="0.000182392582849013"/>
    </inertial>
    <visual>
      <origin rpy="0 0 0" xyz="0 0 0"/>
      <geometry>
        <mesh filename="package://flying_car_urdf/meshes/FL_steer_link.STL"/>
      </geometry>
      <material name="">
        <color rgba="0.752941176470588 0.752941176470588 0.752941176470588 1"/>
      </material>
    </visual>
    <collision>
      <origin rpy="0 0 0" xyz="0 0 0"/>
      <geometry>
        <mesh filename="package://flying_car_urdf/meshes/FL_steer_link.STL"/>
      </geometry>
    </collision>
  </link>
  <joint name="FL_steer_joint" type="revolute">
    <origin rpy="0 0 0" xyz="0.707 0.308 0.15"/>
    <parent link="base_link"/>
    <child link="FL_steer_link"/>
    <axis xyz="0 0 1"/>
    <limit effort="1" lower="-1.57" upper="1.57" velocity="1"/>
  </joint>
  <link name="FL_wheel_link">
    <inertial>
      <origin rpy="0 0 0" xyz="-2.22044604925031E-16 -1.11022302462516E-16 2.22044604925031E-16"/>
      <mass value="1.84219192629543"/>
      <inertia ixx="0.0177302468286368" ixy="5.85379655277248E-20" ixz="3.05830316111449E-18" iyy="0.00925790244280525" iyz="-3.92719505446036E-18" izz="0.00925790244280525"/>
    </inertial>
    <visual>
      <origin rpy="0 0 0" xyz="0 0 0"/>
      <geometry>
        <mesh filename="package://flying_car_urdf/meshes/FL_wheel_link.STL"/>
      </geometry>
      <material name="">
        <color rgba="0.647058823529412 0.619607843137255 0.588235294117647 1"/>
      </material>
    </visual>
    <collision>
      <origin rpy="0 0 0" xyz="0 0 0"/>
      <geometry>
        <mesh filename="package://flying_car_urdf/meshes/FL_wheel_link.STL"/>
      </geometry>
      <friction>
        <ode>
          <mu>0.68</mu>
          <mu2>0.8</mu2>
        </ode>
      </friction>
    </collision>
  </link>
  <joint name="FL_wheel_joint" type="continuous">
    <origin rpy="1.5707963267949 0 1.5707963267949" xyz="0 0 -0.144999999999987"/>
    <parent link="FL_steer_link"/>
    <child link="FL_wheel_link"/>
    <axis xyz="-1 0 0"/>
  </joint>
  <link name="RR_steer_link">
    <inertial>
      <origin rpy="0 0 0" xyz="3.88578058618805E-16 1.11022302462516E-16 -0.045212783614331"/>
      <mass value="0.230273438117983"/>
      <inertia ixx="0.000349256798258397" ixy="1.45517338150183E-14" ixz="2.46152613174949E-19" iyy="0.000450897154400179" iyz="3.50515752367294E-22" izz="0.000182392582849012"/>
    </inertial>
    <visual>
      <origin rpy="0 0 0" xyz="0 0 0"/>
      <geometry>
        <mesh filename="package://flying_car_urdf/meshes/RR_steer_link.STL"/>
      </geometry>
      <material name="">
        <color rgba="0.752941176470588 0.752941176470588 0.752941176470588 1"/>
      </material>
    </visual>
    <collision>
      <origin rpy="0 0 0" xyz="0 0 0"/>
      <geometry>
        <mesh filename="package://flying_car_urdf/meshes/RR_steer_link.STL"/>
      </geometry>
    </collision>
  </link>
  <joint name="RR_steer_joint" type="revolute">
    <origin rpy="0 0 0" xyz="-0.707 -0.308 0.15"/>
    <parent link="base_link"/>
    <child link="RR_steer_link"/>
    <axis xyz="0 0 1"/>
    <limit effort="0" lower="0" upper="0" velocity="0"/>
  </joint>
  <link name="RR_wheel_link">
    <inertial>
      <origin rpy="0 0 0" xyz="0 0 -1.11022302462516E-16"/>
      <mass value="1.84219192629543"/>
      <inertia ixx="0.0177302468286368" ixy="-1.19673225549615E-18" ixz="9.76883033040924E-19" iyy="0.00925790244280525" iyz="-2.48053598603422E-18" izz="0.00925790244280525"/>
    </inertial>
    <visual>
      <origin rpy="0 0 0" xyz="0 0 0"/>
      <geometry>
        <mesh filename="package://flying_car_urdf/meshes/RR_wheel_link.STL"/>
      </geometry>
      <material name="">
        <color rgba="0.647058823529412 0.619607843137255 0.588235294117647 1"/>
      </material>
    </visual>
    <collision>
      <origin rpy="0 0 0" xyz="0 0 0"/>
      <geometry>
        <mesh filename="package://flying_car_urdf/meshes/RR_wheel_link.STL"/>
      </geometry>
      <friction>
        <ode>
          <mu>0.68</mu>
          <mu2>0.8</mu2>
        </ode>
      </friction>
    </collision>
  </link>
  <joint name="RR_wheel_joint" type="continuous">
    <origin rpy="1.5707963267949 0 1.5707963267949" xyz="0 0 -0.145"/>
    <parent link="RR_steer_link"/>
    <child link="RR_wheel_link"/>
    <axis xyz="1 0 0"/>
  </joint>
  <link name="RL_steer_link">
    <inertial>
      <origin rpy="0 0 0" xyz="4.44089209850063E-16 -4.44089209850063E-16 -0.0452127836146745"/>
      <mass value="0.230273438117982"/>
      <inertia ixx="0.000349256798258395" ixy="1.45516390193479E-14" ixz="-2.9833008345631E-20" iyy="0.000450897154400177" iyz="3.9950109397287E-20" izz="0.000182392582849012"/>
    </inertial>
    <visual>
      <origin rpy="0 0 0" xyz="0 0 0"/>
      <geometry>
        <mesh filename="package://flying_car_urdf/meshes/RL_steer_link.STL"/>
      </geometry>
      <material name="">
        <color rgba="0.752941176470588 0.752941176470588 0.752941176470588 1"/>
      </material>
    </visual>
    <collision>
      <origin rpy="0 0 0" xyz="0 0 0"/>
      <geometry>
        <mesh filename="package://flying_car_urdf/meshes/RL_steer_link.STL"/>
      </geometry>
    </collision>
  </link>
  <joint name="RL_steer_joint" type="revolute">
    <origin rpy="0 0 0" xyz="-0.707 0.307999999999994 0.150000000000006"/>
    <parent link="base_link"/>
    <child link="RL_steer_link"/>
    <axis xyz="0 0 1"/>
    <limit effort="0" lower="0" upper="0" velocity="0"/>
  </joint>
  <link name="RL_wheel_link">
    <inertial>
      <origin rpy="0 0 0" xyz="-2.22044604925031E-16 0 -5.55111512312578E-17"/>
      <mass value="1.84219192629543"/>
      <inertia ixx="0.0177302468286368" ixy="1.75740894616314E-19" ixz="-3.86956107926909E-18" iyy="0.00925790244280525" iyz="-1.63877052492066E-18" izz="0.00925790244280525"/>
    </inertial>
    <visual>
      <origin rpy="0 0 0" xyz="0 0 0"/>
      <geometry>
        <mesh filename="package://flying_car_urdf/meshes/RL_wheel_link.STL"/>
      </geometry>
      <material name="">
        <color rgba="0.647058823529412 0.619607843137255 0.588235294117647 1"/>
      </material>
    </visual>
    <collision>
      <origin rpy="0 0 0" xyz="0 0 0"/>
      <geometry>
        <mesh filename="package://flying_car_urdf/meshes/RL_wheel_link.STL"/>
      </geometry>
      <friction>
        <ode>
          <mu>0.68</mu>
          <mu2>0.8</mu2>
        </ode>
      </friction>
    </collision>
  </link>
  <joint name="RL_wheel_joint" type="continuous">
    <origin rpy="1.5707963267949 0 1.5707963267949" xyz="0 0.000499999999971967 -0.145000000000341"/>
    <parent link="RL_steer_link"/>
    <child link="RL_wheel_link"/>
    <axis xyz="1 0 0"/>
  </joint>
</robot>
